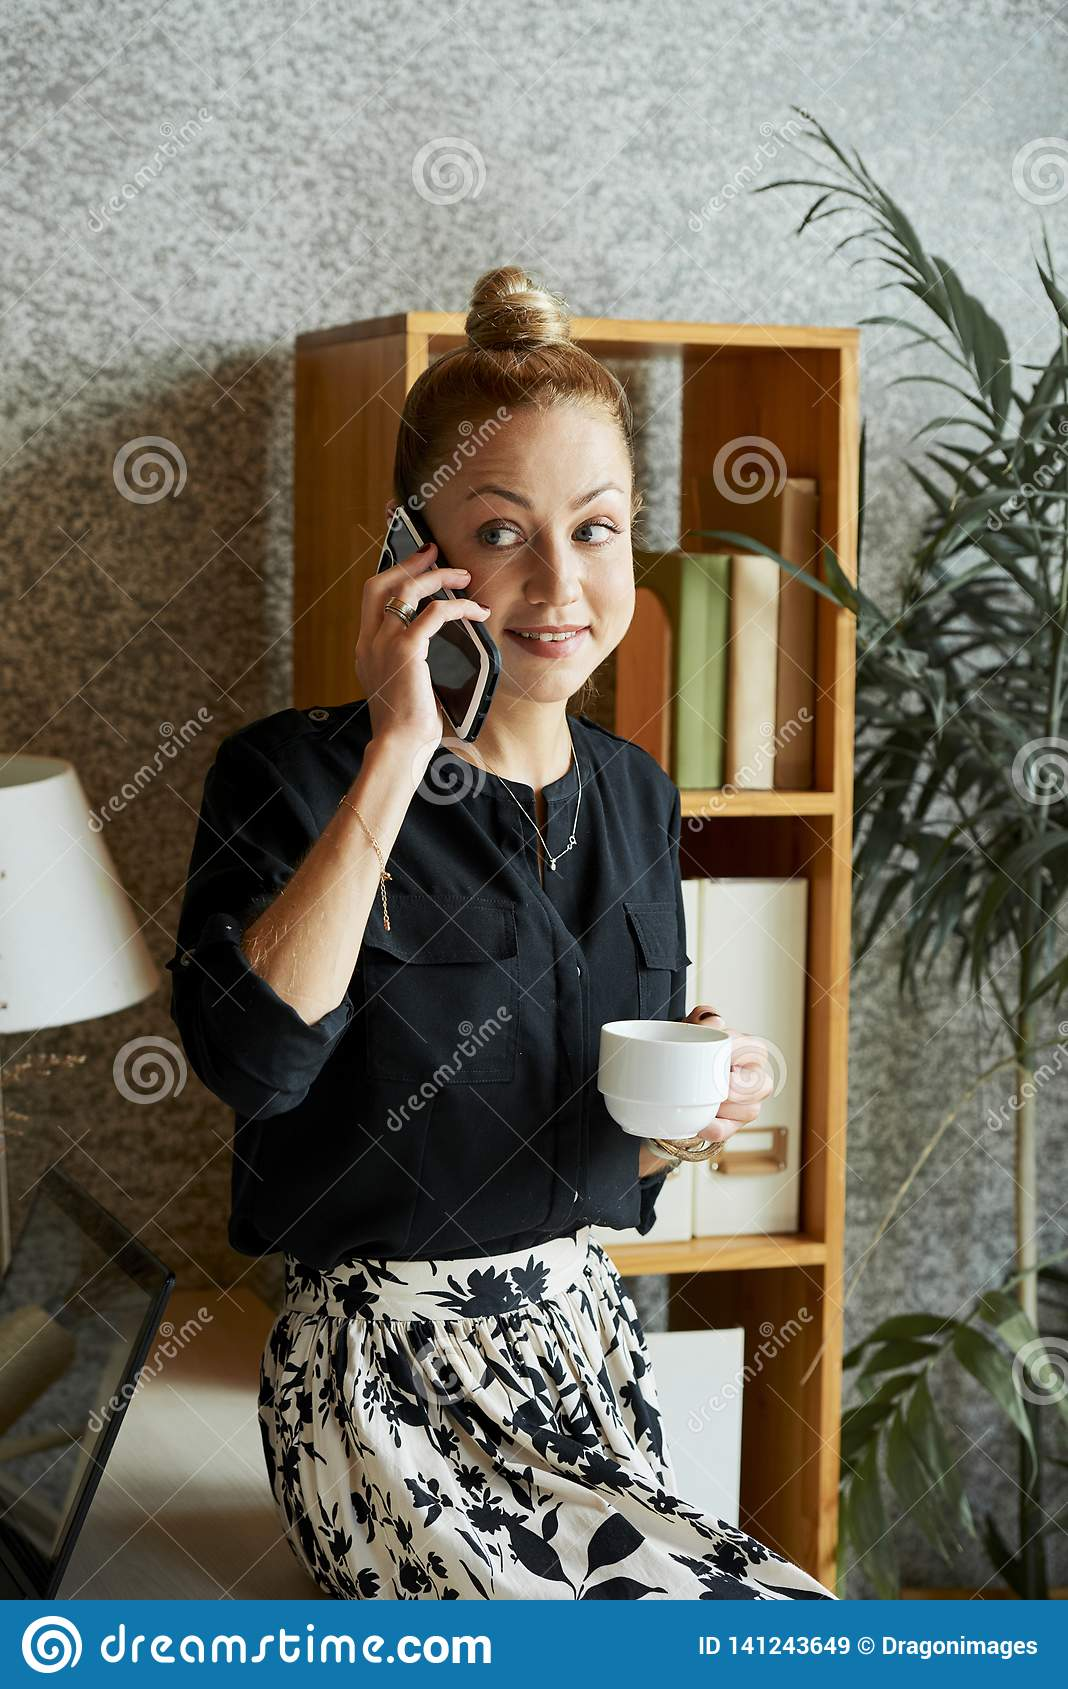phone: (377, 509, 501, 760)
talk: (349, 451, 639, 777)
